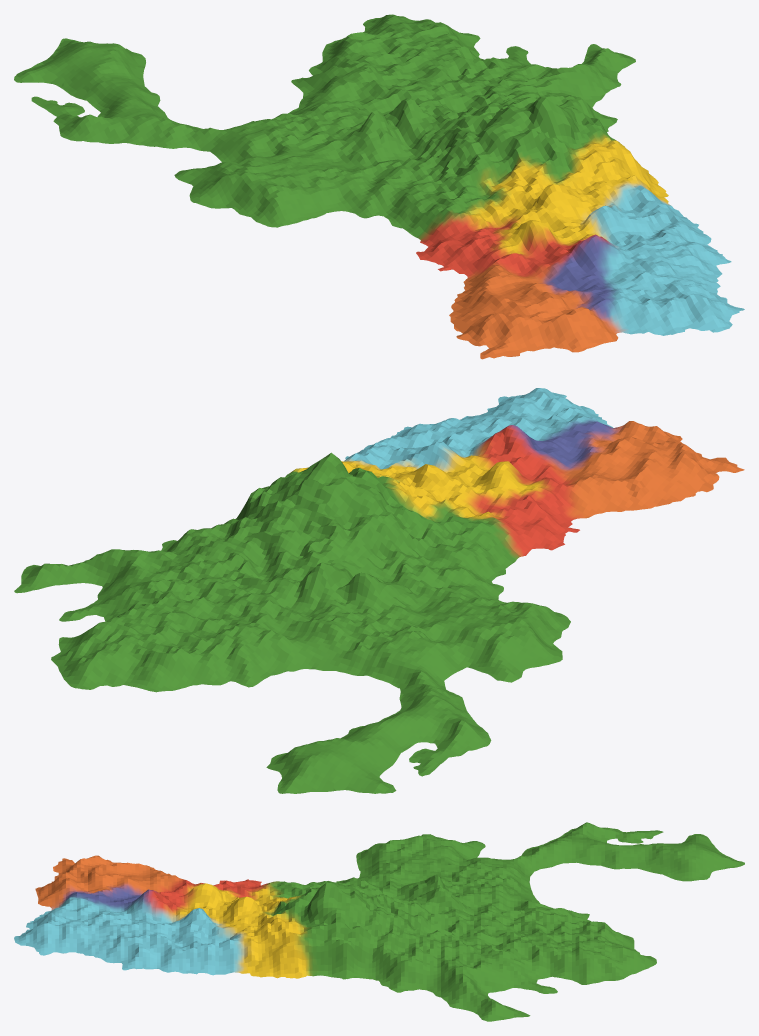
File: mapa_realidad_aumentada.glb
The picture shows the model from 3 angles, top to bottom: view 1: azimuth 30°, elevation 25°; view 2: azimuth 150°, elevation 25°; view 3: azimuth 270°, elevation 25°; orthographic projection. The views are drawn at different scales.
Parts seen in each view (by area): view 1: Plane; view 2: Plane; view 3: Plane.
Part boxes in pixels (left/top/right/bottom): Plane: left=14, top=14, right=744, bottom=359; Plane: left=14, top=388, right=744, bottom=793; Plane: left=14, top=822, right=744, bottom=1021.
Size of the model in its own units: 0.1774 by 0.028 by 0.2794.
